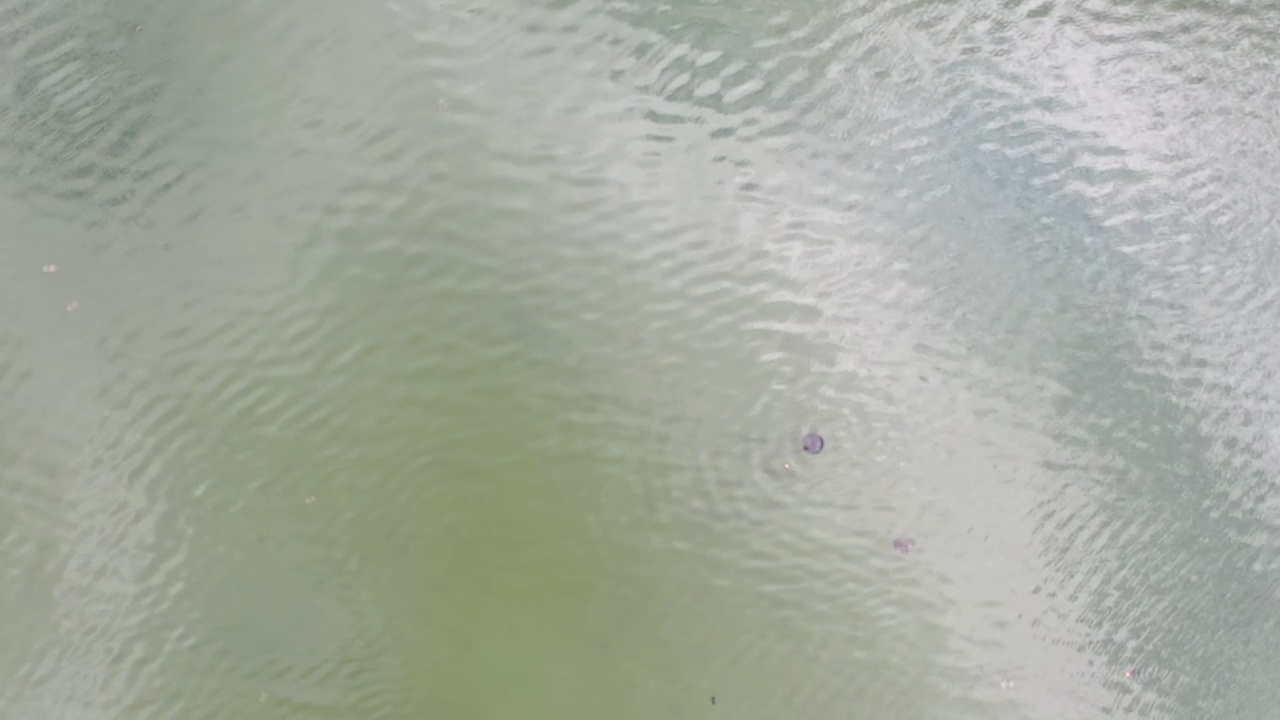meduse: (999, 677, 1016, 691), (258, 691, 271, 707), (436, 99, 451, 110), (42, 263, 56, 274), (306, 495, 318, 507), (67, 301, 81, 310)
